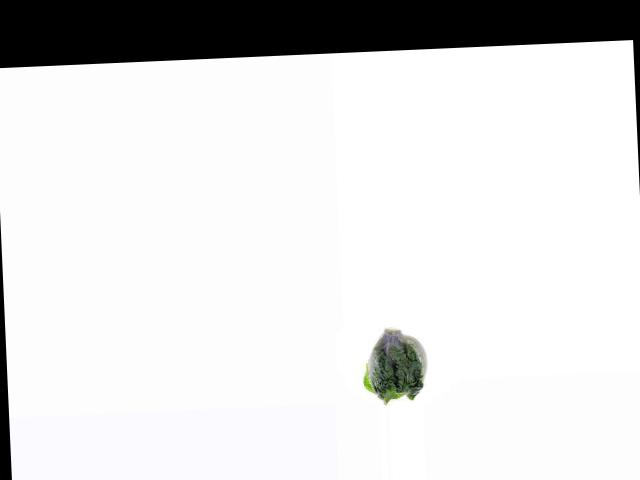lettuce: (357, 327, 430, 403)
